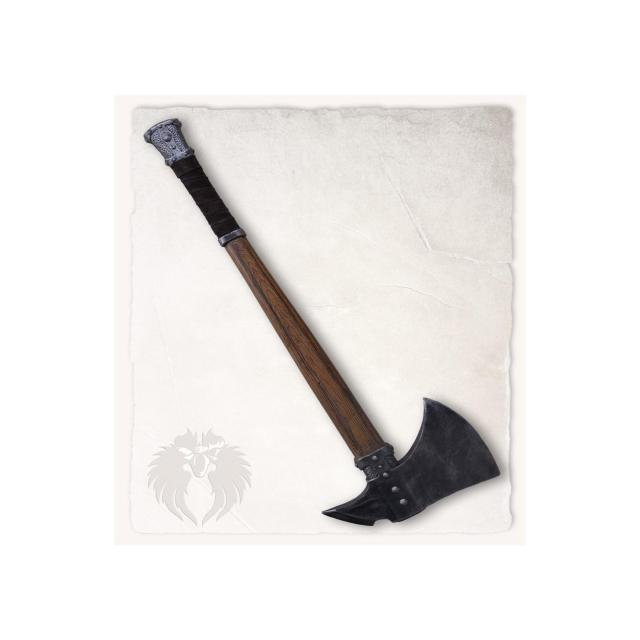Kapak: (130, 108, 512, 550)
